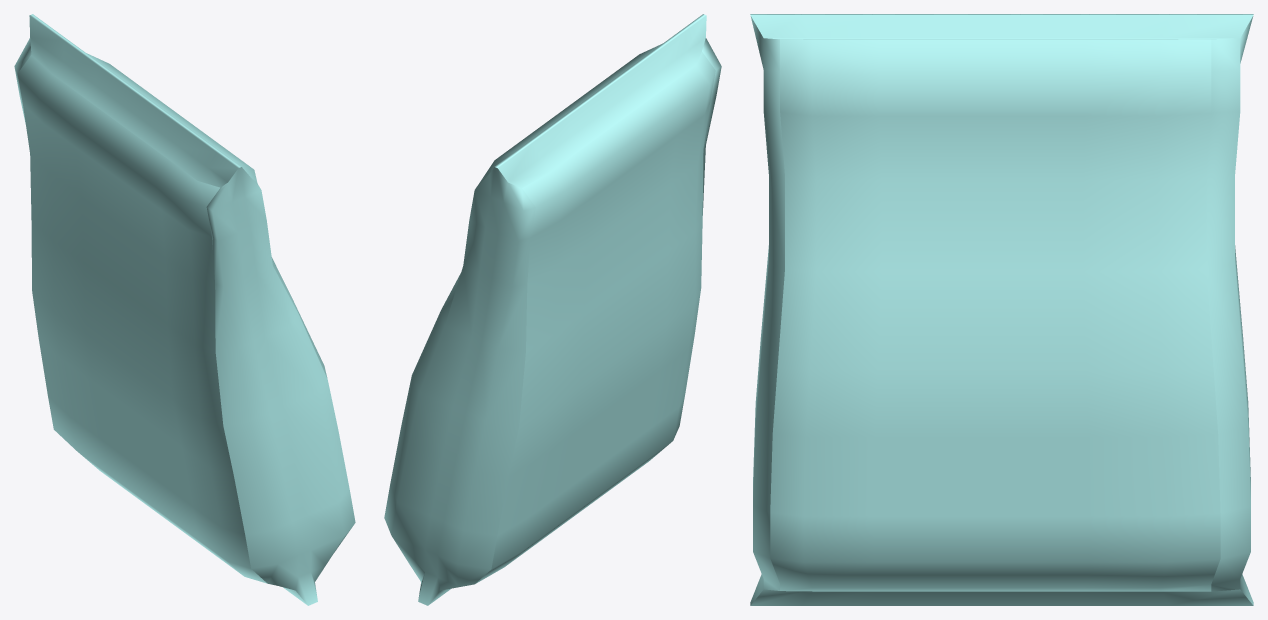
The model's file is ChipBag.fbx.
3 views of the same model, side by side, from view 1: azimuth 30°, elevation 25°; view 2: azimuth 150°, elevation 25°; view 3: azimuth 270°, elevation 25° (orthographic). The views are drawn at different scales.
Parts seen in each view (by area): view 1: chip_bag1; view 2: chip_bag1; view 3: chip_bag1.
Boxes of the visible parts, left/top/right/bottom form: chip_bag1: left=14, top=14, right=355, bottom=605; chip_bag1: left=384, top=14, right=721, bottom=605; chip_bag1: left=750, top=14, right=1253, bottom=605.
Bounding box in the file's own units: 10.91 × 28.84 × 24.
